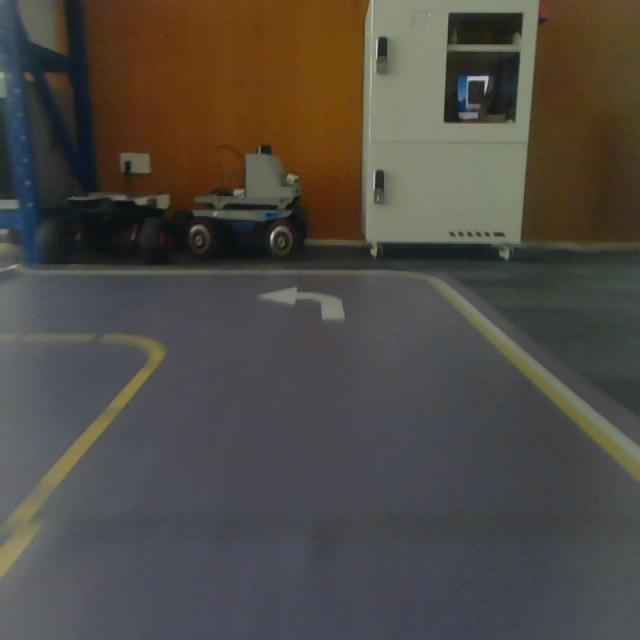left_lane: (0, 346, 162, 584)
right_lane: (433, 281, 640, 487)
